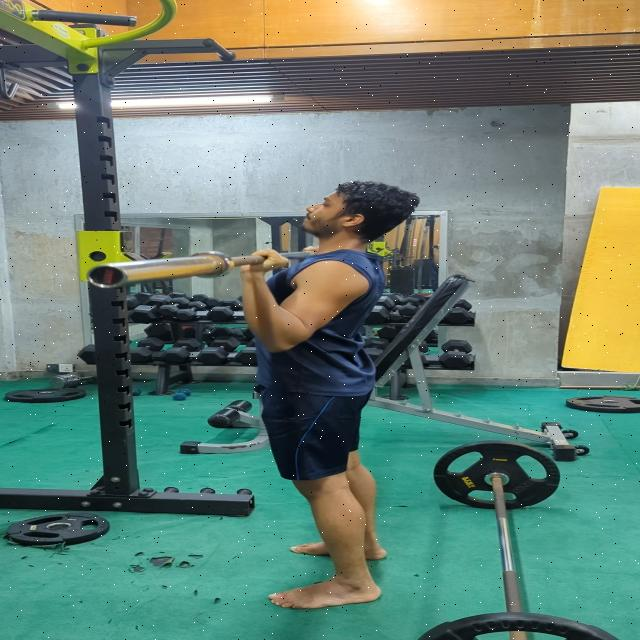Normal_OverheadPress: (190, 158, 444, 617)
